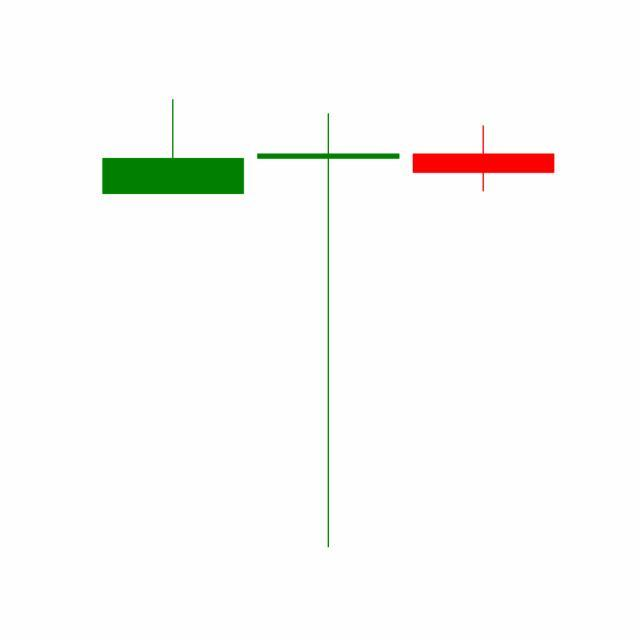Spinning Top: (250, 109, 407, 553)
